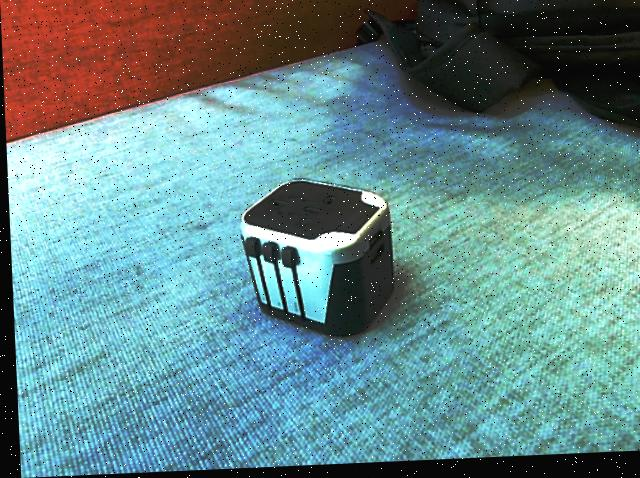adapter: (235, 177, 394, 344)
